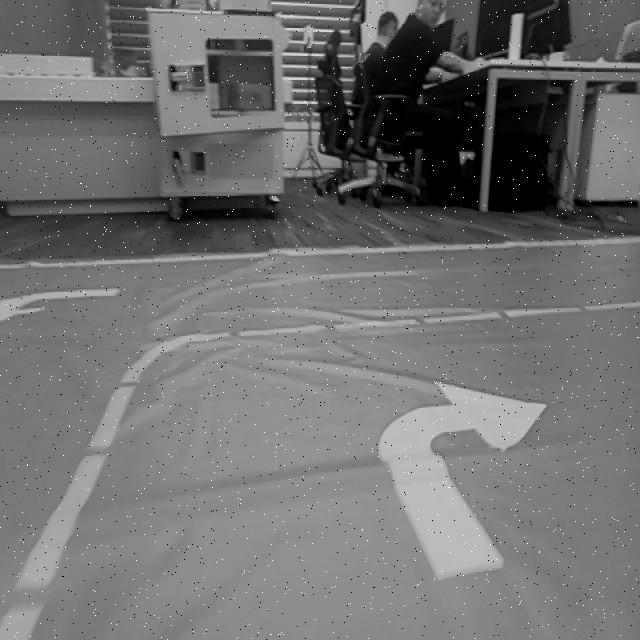left_lane: (0, 371, 141, 640)
